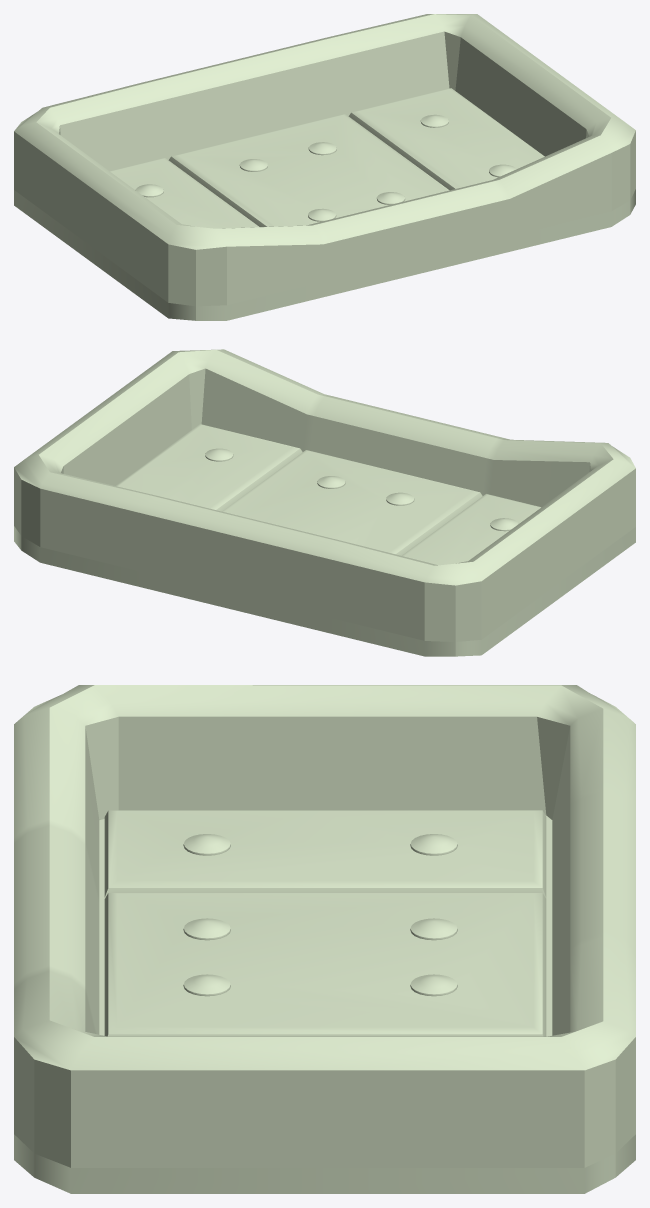
Rendered from checkpoint.fbx.
3 views of the same model, one above another, from view 1: azimuth 30°, elevation 25°; view 2: azimuth 150°, elevation 25°; view 3: azimuth 270°, elevation 25° (orthographic). The views are drawn at different scales.
Parts seen in each view (by area): view 1: polySurface1; view 2: polySurface1; view 3: polySurface1.
Part boxes in pixels (bbox=[...]): polySurface1: bbox=[14, 14, 635, 320]; polySurface1: bbox=[14, 349, 635, 656]; polySurface1: bbox=[14, 685, 635, 1193].
Bounding box in the file's own units: 1586 × 278 × 1098.
